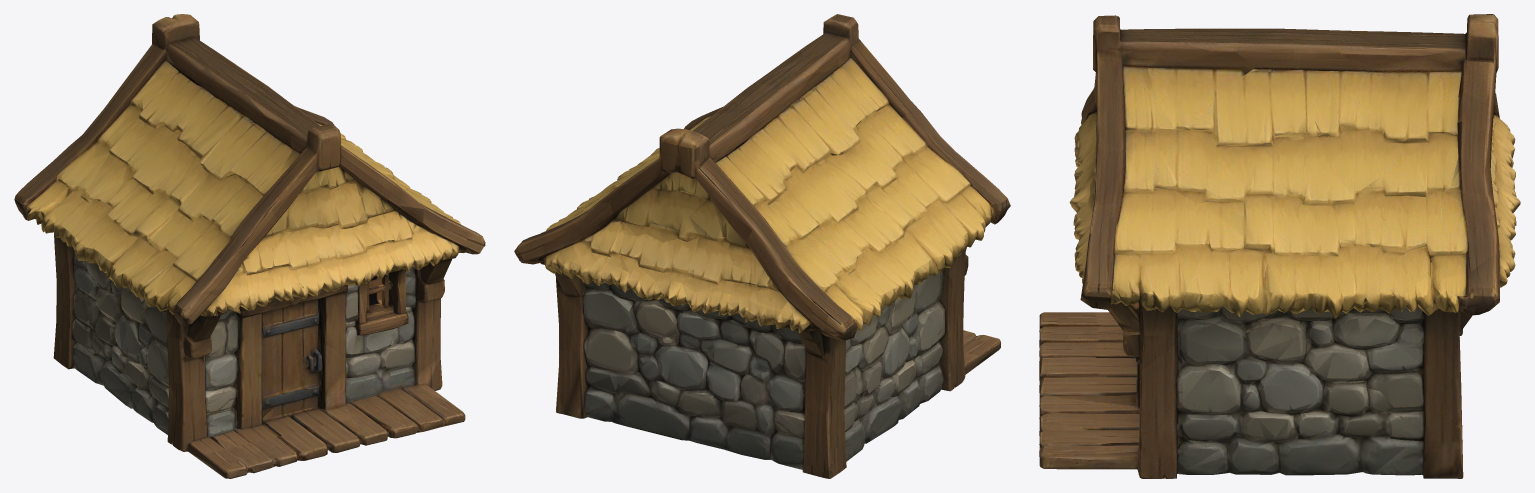
Rendered from farm__thatched-stone-cottage.glb.
3 renders of one model, left to right at view 1: azimuth 30°, elevation 25°; view 2: azimuth 150°, elevation 25°; view 3: azimuth 270°, elevation 25°, orthographic. The views are drawn at different scales.
Size of the model in its own units: 1.82 by 1.66 by 1.91.
Materials: 1 (1 with a texture image).
